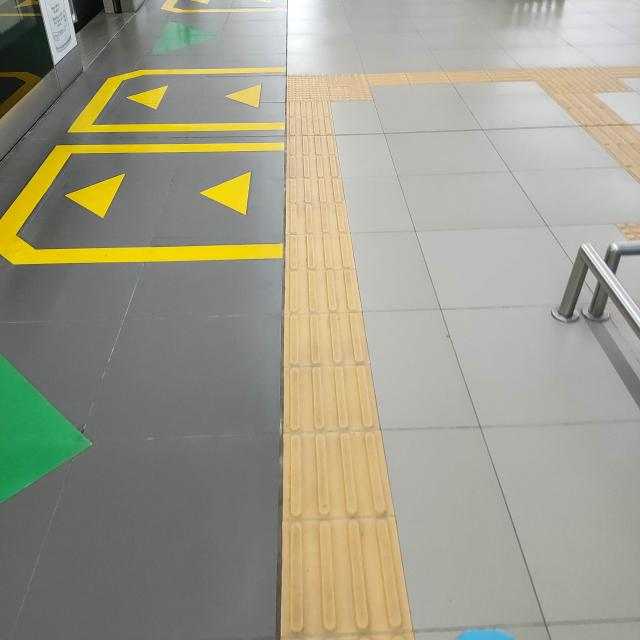kanan: (262, 60, 440, 116)
